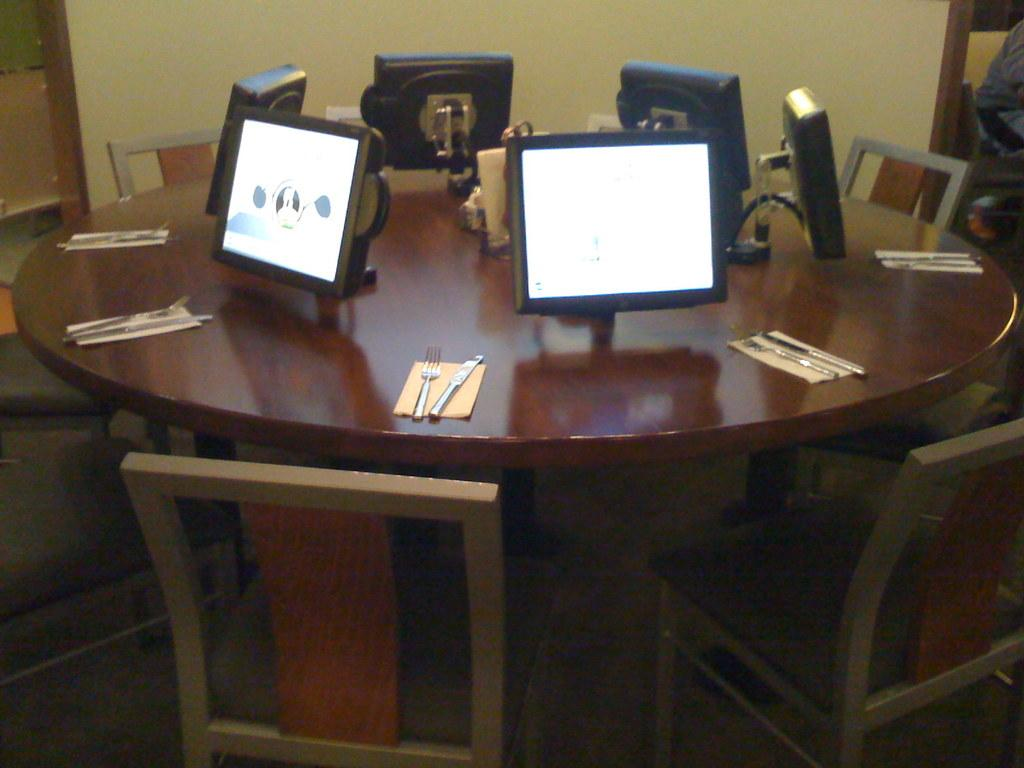Chair: (128, 445, 586, 767), (649, 413, 1023, 767), (783, 127, 993, 516), (0, 423, 252, 662), (103, 123, 235, 467), (0, 323, 128, 433)
Computer-monitor: (500, 104, 762, 346), (214, 106, 378, 301), (613, 48, 758, 220), (356, 47, 513, 177), (752, 81, 854, 273), (202, 57, 307, 228)
